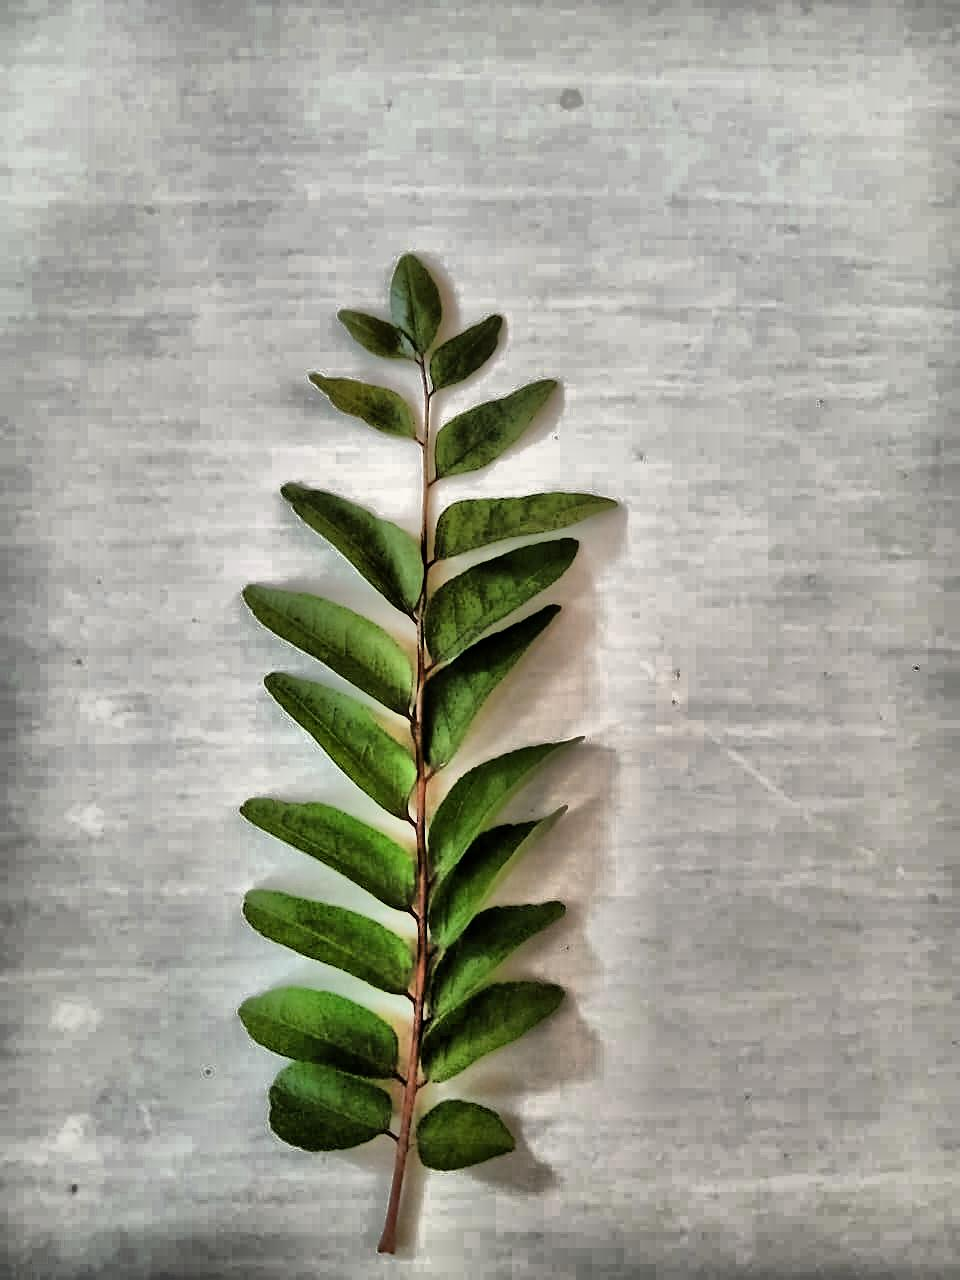daun kari: (243, 255, 617, 1252)
